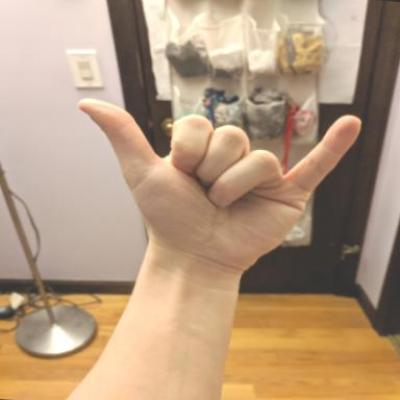hand: (62, 85, 368, 276)
